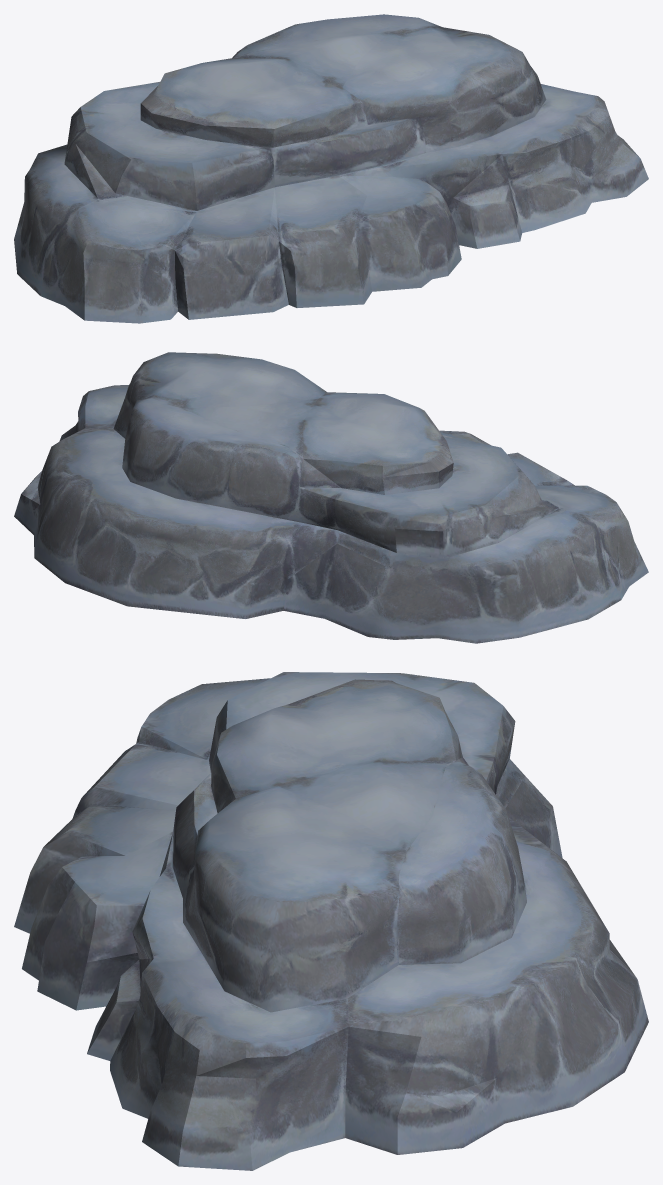
File: shitou_1.FBX
3 views of the same model, one above another, from view 1: azimuth 30°, elevation 25°; view 2: azimuth 150°, elevation 25°; view 3: azimuth 270°, elevation 25° (orthographic). The views are drawn at different scales.
Visible parts, largest first — view 1: shitou_1; view 2: shitou_1; view 3: shitou_1.
Boxes of the visible parts, x1,y1,x2,y2 form: shitou_1: (14,14,648,323); shitou_1: (14,352,648,643); shitou_1: (14,672,648,1170).
Size of the model in its own units: 1191 by 278 by 783.
Materials: 1 (1 with a texture image).
